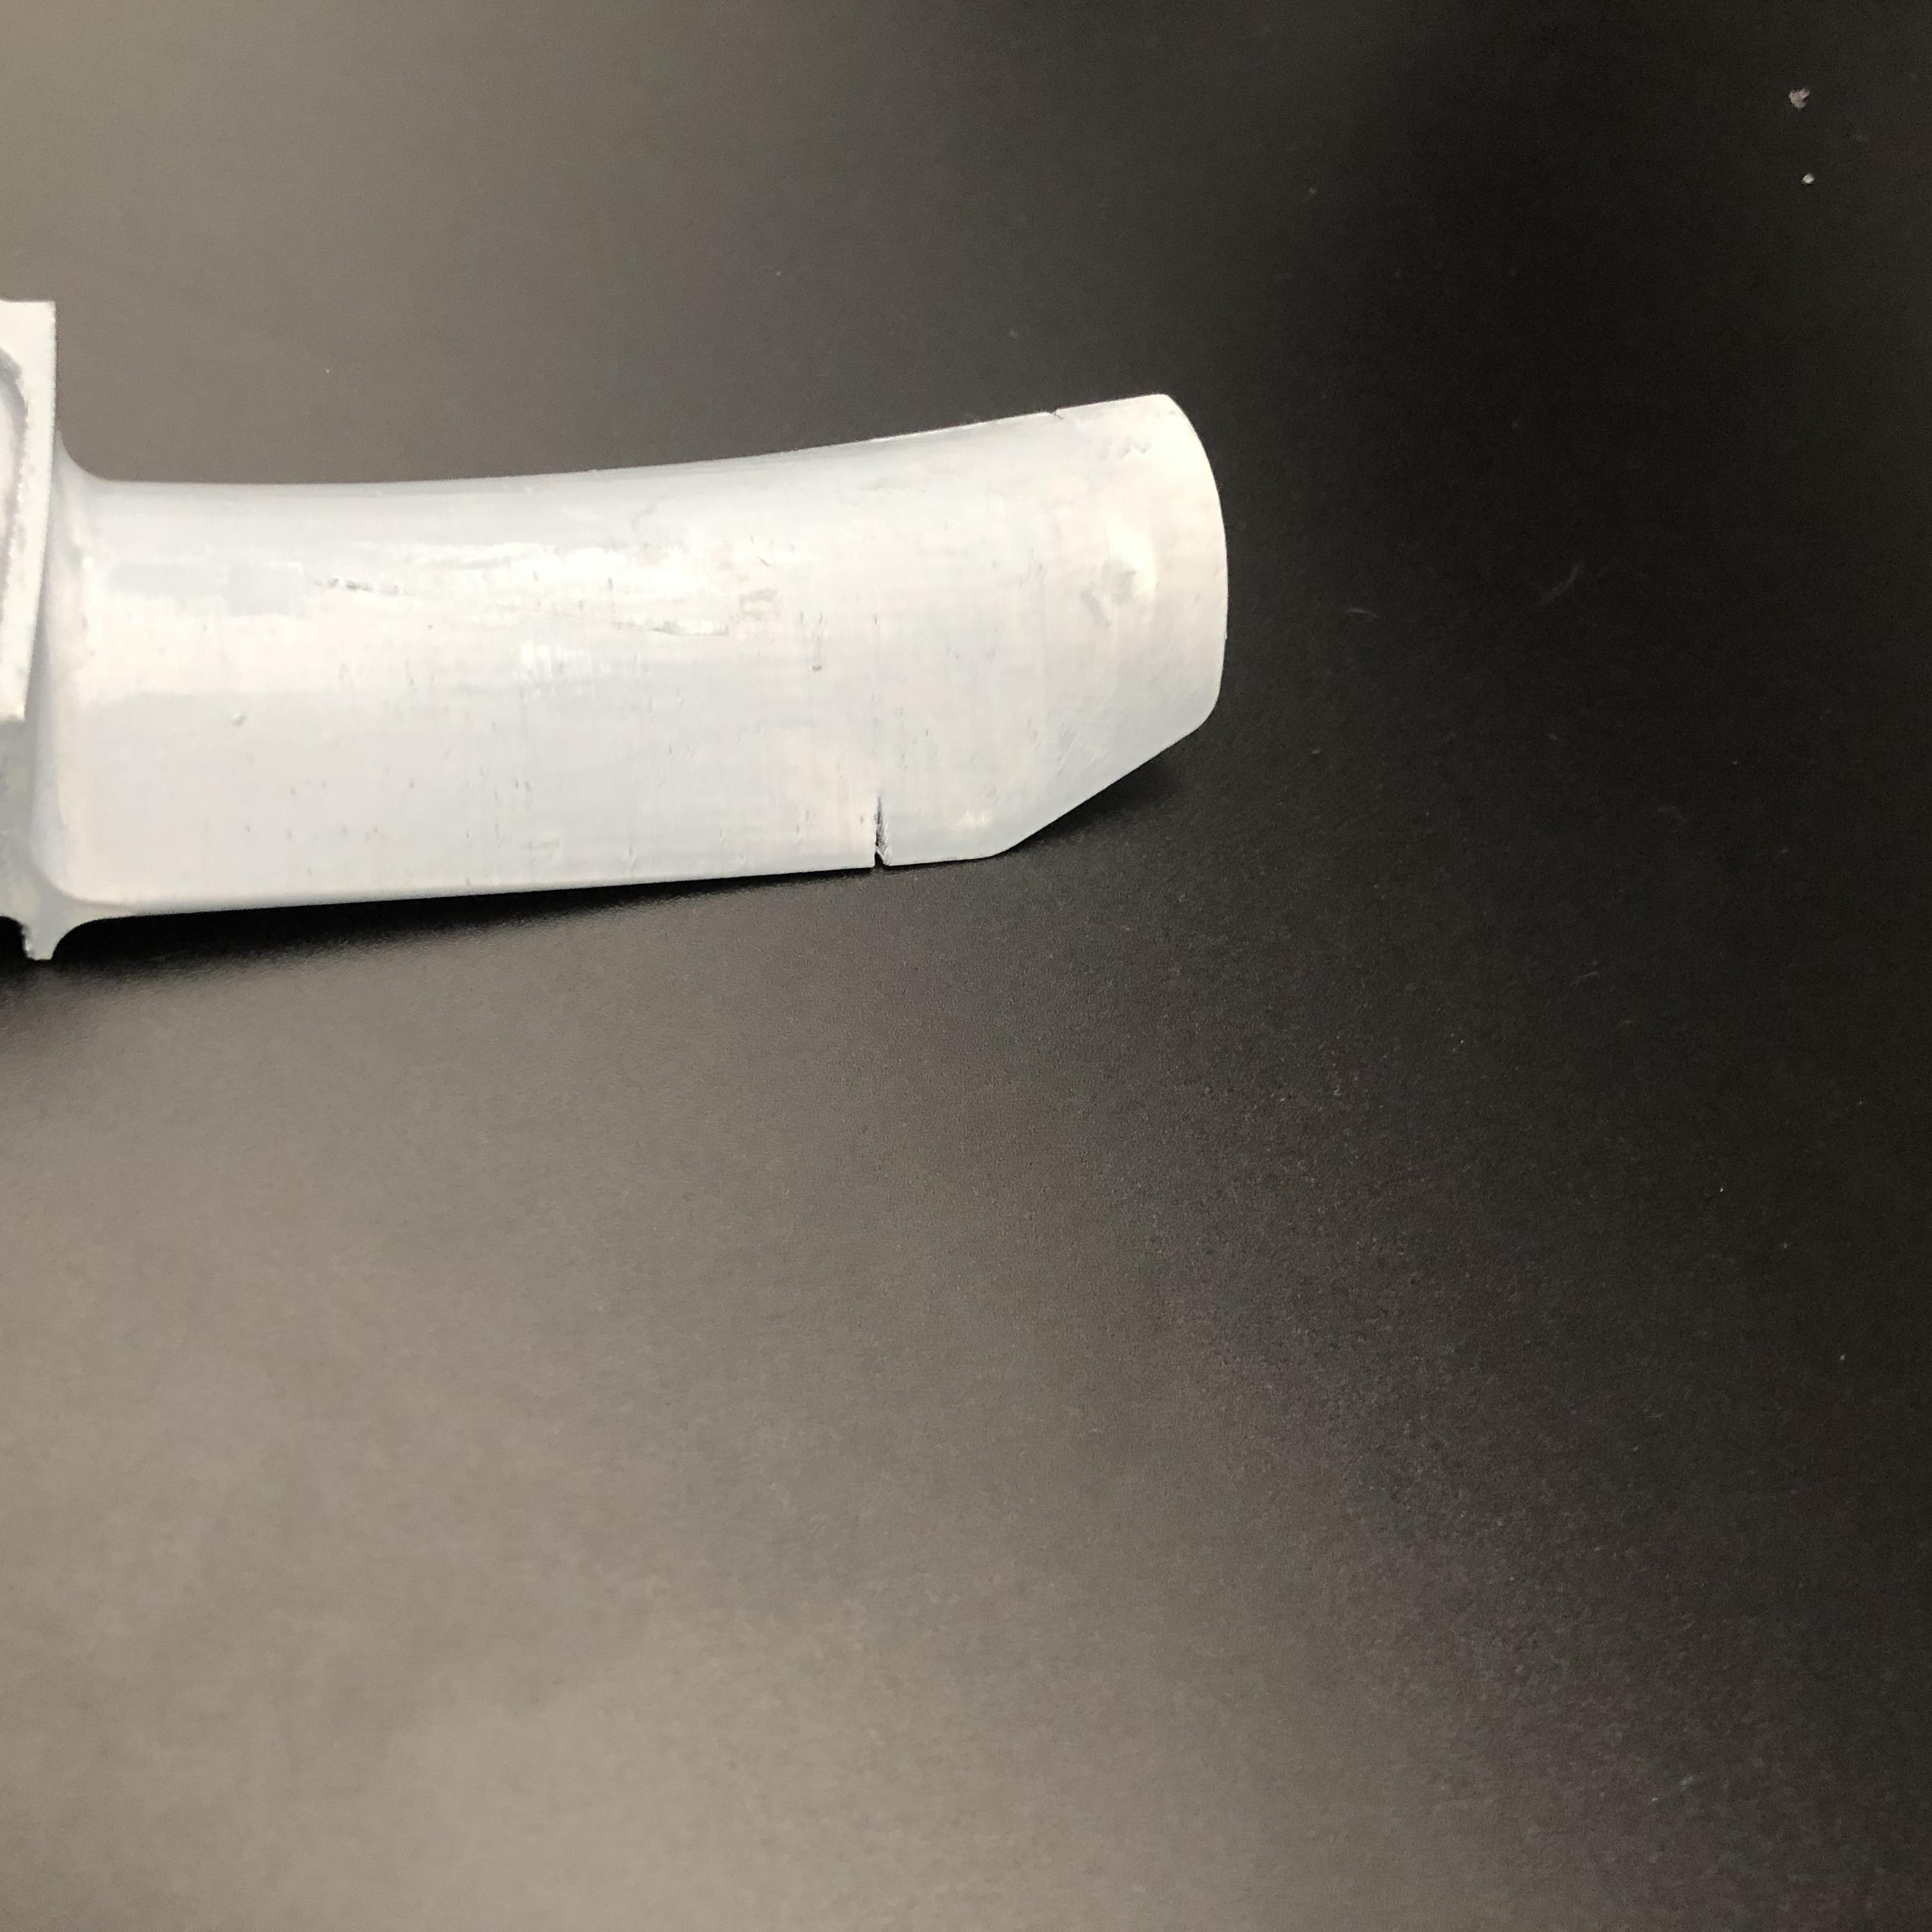groove: (865, 796, 906, 869), (1033, 407, 1074, 423)
